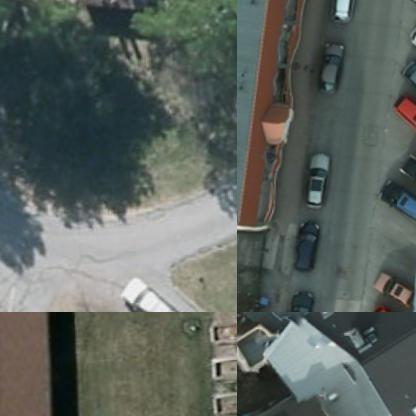car: (300, 154, 338, 212), (117, 277, 180, 311), (314, 39, 348, 98), (379, 180, 415, 234), (369, 271, 415, 311), (294, 221, 324, 278), (393, 95, 415, 149), (329, 0, 363, 28), (400, 61, 415, 108), (397, 155, 415, 194), (282, 294, 317, 311)
